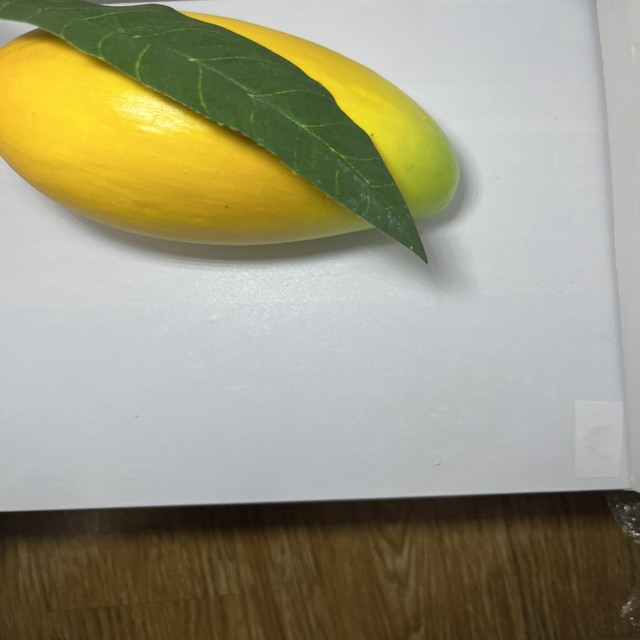Xoai: (0, 0, 469, 262)
